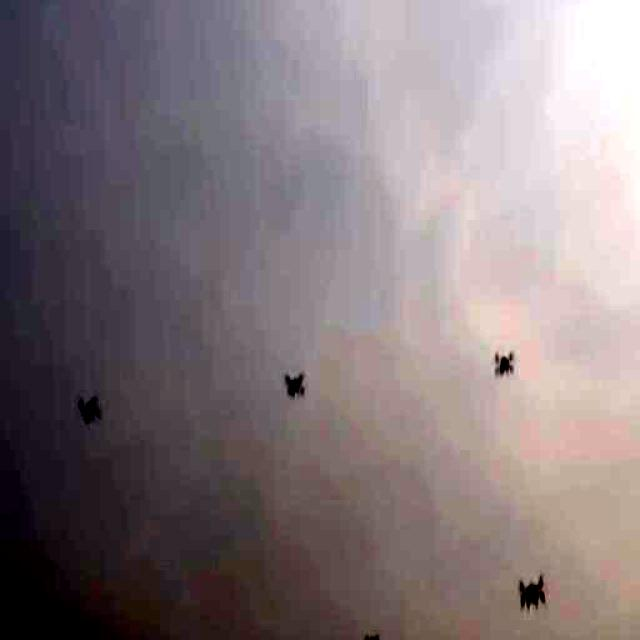bird: (71, 376, 105, 445), (492, 341, 530, 390), (524, 576, 544, 621), (284, 356, 305, 398)
